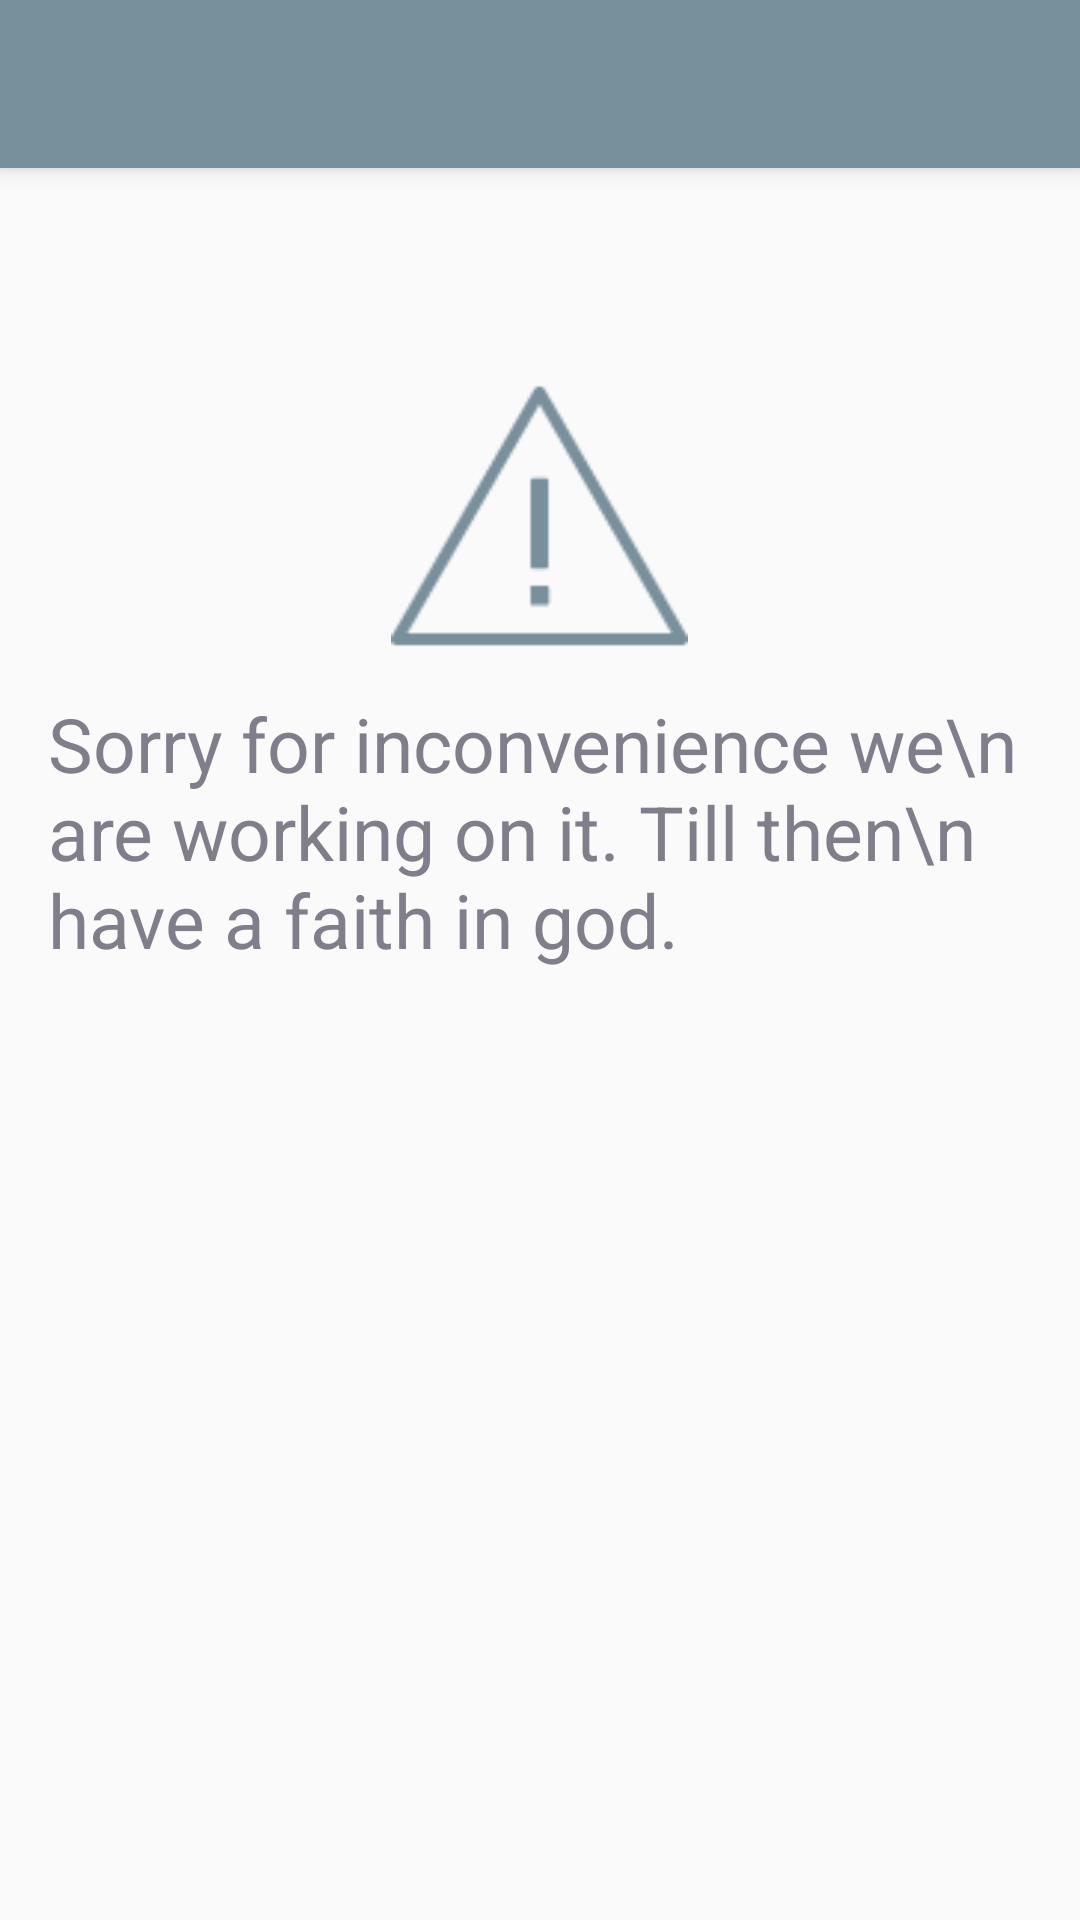

Screen size 1080 x 1920. Icon name, then its center in pixels as (x,y):
error: (539,516)
